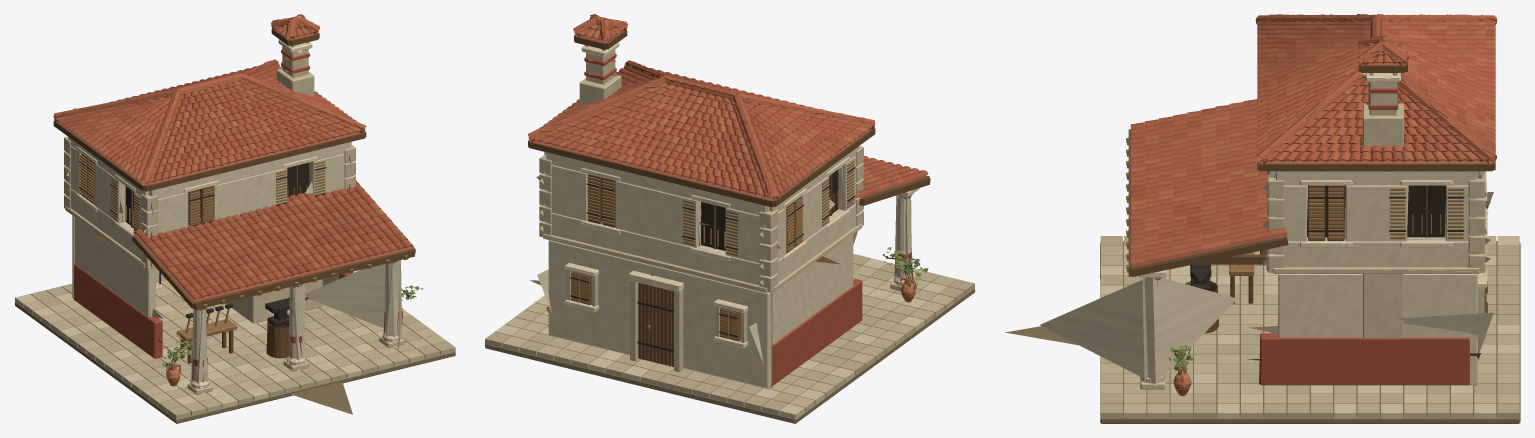
The model's file is schmiede.glb.
The picture shows the model from 3 angles, left to right: view 1: azimuth 30°, elevation 25°; view 2: azimuth 150°, elevation 25°; view 3: azimuth 270°, elevation 25°; orthographic projection. The views are drawn at different scales.
Visible parts, largest first — view 1: Tile_0.001, Limewash.001, Tile_1.001, Paving_3.001, Oak.001, Paving_1.001, Paving_0.001, Tile_5.001, Travertine.001, Paving_2.001, Tile_2.001, Pompeian_red.001 (+16 smaller); view 2: Limewash.001, Tile_0.001, Travertine.001, Oak.001, Tile_1.001, Paving_1.001, Paving_3.001, Paving_0.001, Oak_edge.001, Tile_5.001, Pompeian_red.001, Paving_2.001 (+14 smaller); view 3: Tile_0.001, Limewash.001, Tile_1.001, Limewash.003, Pompeian_red.001, Travertine.001, Paving_1.001, Paving_3.001, Tile_5.001, Paving_0.001, Oak.001, Paving_2.001 (+17 smaller).
Boxes of the visible parts, bbox=[...] form: Tile_0.001: bbox=[59, 23, 406, 300]; Limewash.001: bbox=[68, 137, 400, 388]; Tile_1.001: bbox=[53, 14, 413, 286]; Paving_3.001: bbox=[51, 272, 428, 415]; Oak.001: bbox=[53, 28, 415, 369]; Paving_1.001: bbox=[30, 283, 455, 419]; Paving_0.001: bbox=[24, 280, 446, 406]; Tile_5.001: bbox=[66, 27, 391, 288]; Travertine.001: bbox=[64, 42, 404, 394]; Paving_2.001: bbox=[15, 282, 410, 408]; Tile_2.001: bbox=[57, 28, 412, 301]; Pompeian_red.001: bbox=[74, 49, 352, 366]; Limewash.001: bbox=[544, 146, 914, 388]; Tile_0.001: bbox=[528, 29, 928, 199]; Travertine.001: bbox=[539, 45, 917, 372]; Oak.001: bbox=[528, 30, 930, 367]; Tile_1.001: bbox=[528, 14, 901, 200]; Paving_1.001: bbox=[485, 254, 974, 414]; Paving_3.001: bbox=[515, 271, 957, 402]; Paving_0.001: bbox=[502, 265, 954, 411]; Oak_edge.001: bbox=[571, 160, 854, 340]; Tile_5.001: bbox=[553, 28, 904, 196]; Pompeian_red.001: bbox=[584, 53, 911, 385]; Paving_2.001: bbox=[495, 258, 947, 419]; Tile_0.001: bbox=[1130, 21, 1495, 258]; Limewash.001: bbox=[1140, 171, 1483, 385]; Tile_1.001: bbox=[1130, 14, 1496, 264]; Limewash.003: bbox=[1040, 172, 1493, 384]; Pompeian_red.001: bbox=[1260, 82, 1469, 385]; Travertine.001: bbox=[1140, 73, 1486, 389]; Paving_1.001: bbox=[1100, 236, 1519, 418]; Paving_3.001: bbox=[1100, 245, 1519, 418]; Tile_5.001: bbox=[1130, 25, 1495, 249]; Paving_0.001: bbox=[1100, 236, 1519, 418]; Oak.001: bbox=[1128, 29, 1495, 362]; Paving_2.001: bbox=[1100, 236, 1519, 418].
Size of the model in its own units: 9.21 by 8.54 by 11.3.
Materials: 27 (8 with a texture image).
